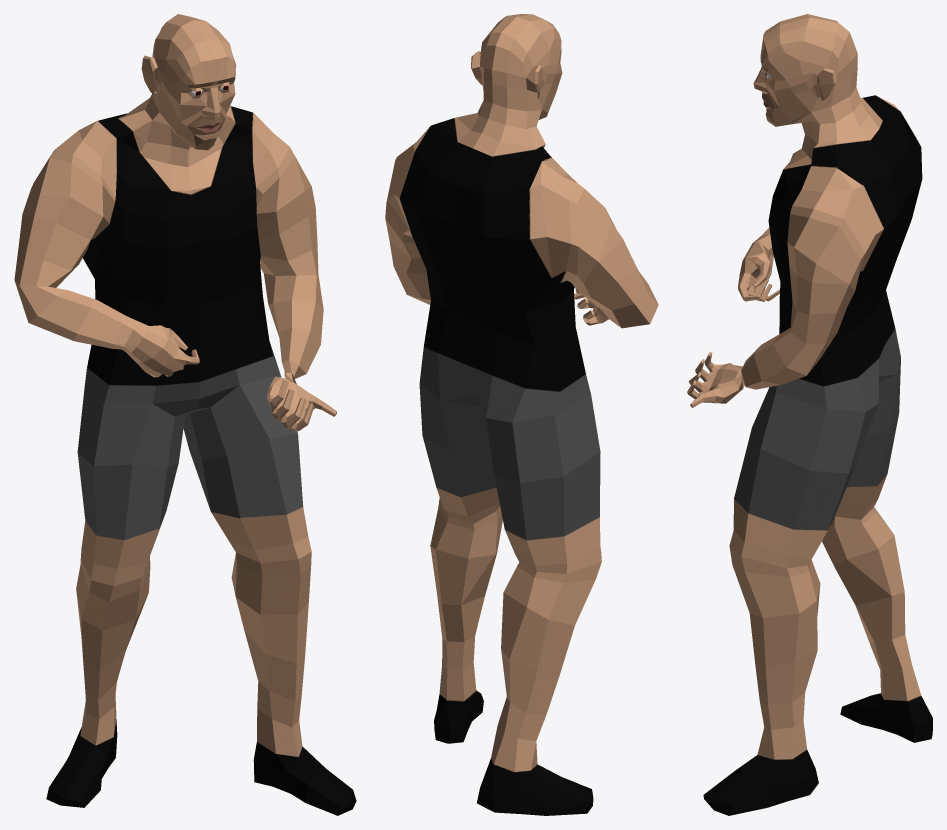
File: PlayerIdle(212).obj
3 views of the same model, side by side, from view 1: azimuth 30°, elevation 25°; view 2: azimuth 150°, elevation 25°; view 3: azimuth 270°, elevation 25° (orthographic). The views are drawn at different scales.
Visible parts, largest first — view 1: Plane002; view 2: Plane002; view 3: Plane002.
Part boxes in pixels (x1,y1,x2,y2): Plane002: [14, 14, 356, 815]; Plane002: [385, 14, 658, 815]; Plane002: [687, 14, 932, 815].
Bounding box in the file's own units: 678 × 1799 × 540.
